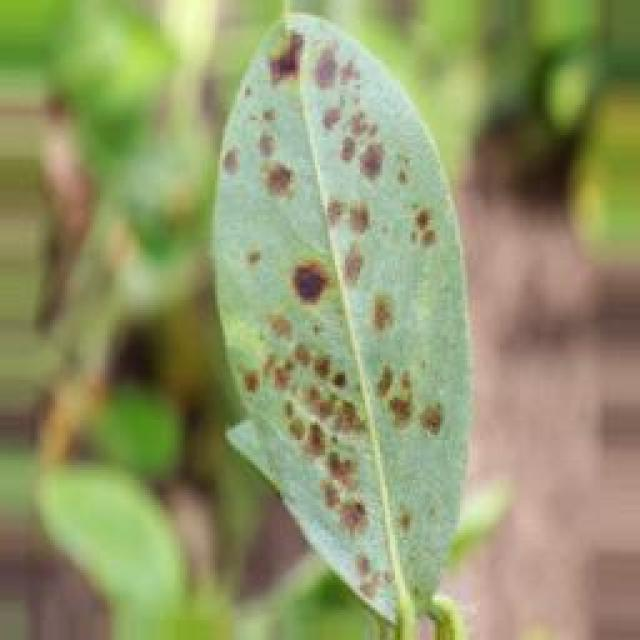Whitefly: (200, 8, 463, 614)
